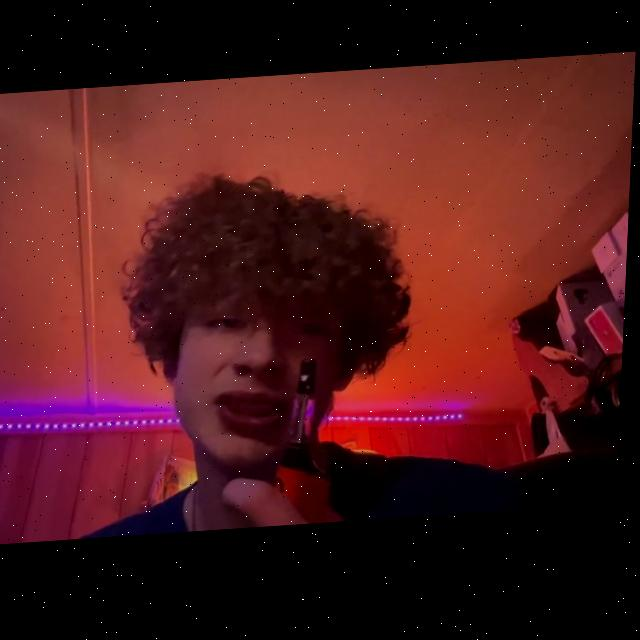vape: (275, 359, 342, 531)
